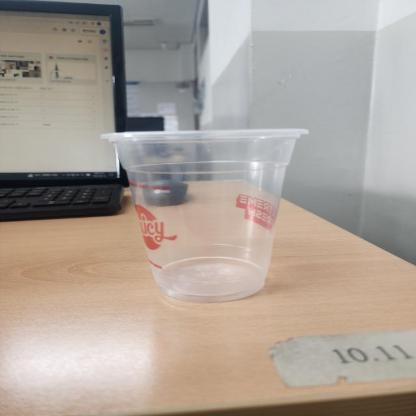Plastic Cup: (101, 128, 312, 302)
